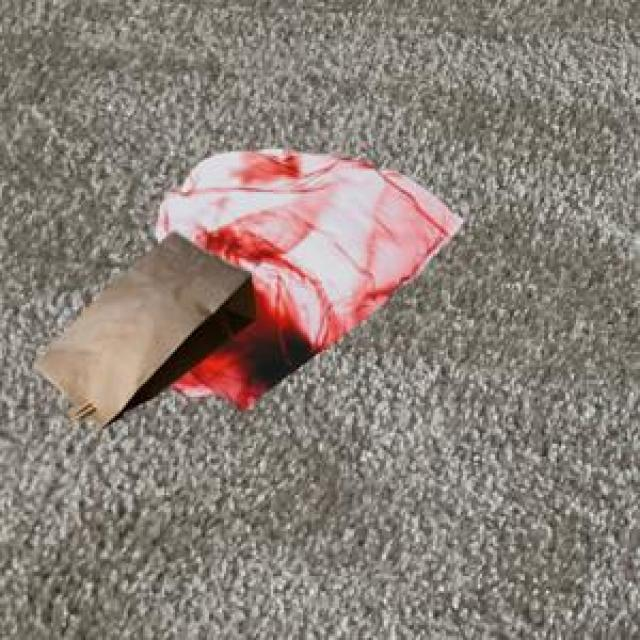paper: (30, 228, 252, 425)
